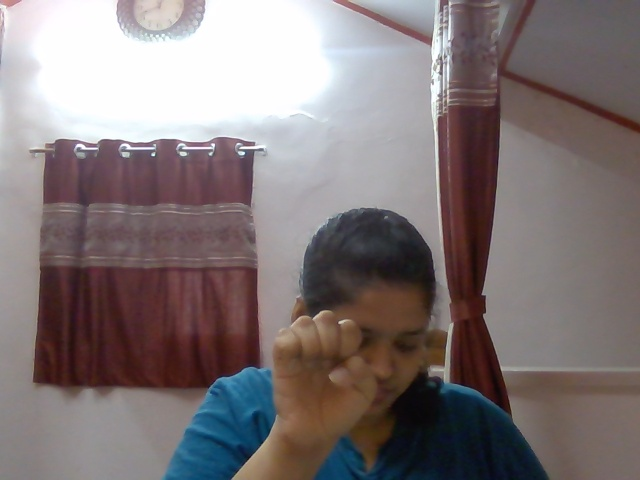s: (249, 304, 395, 439)
